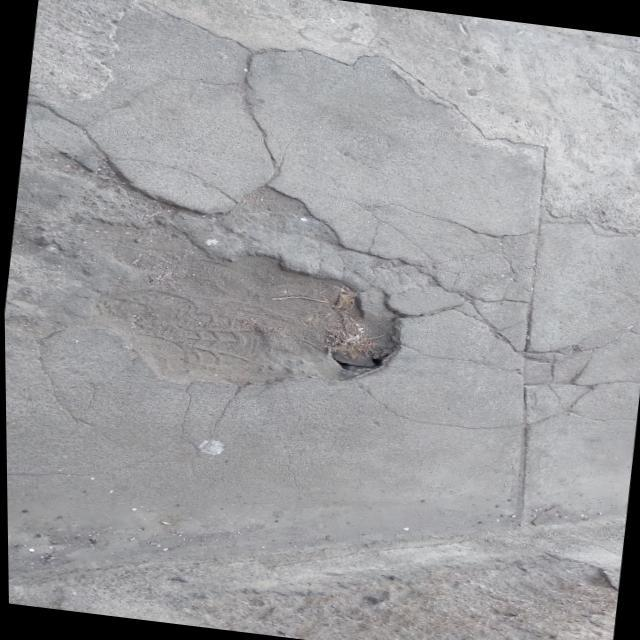hole: (50, 210, 412, 409)
